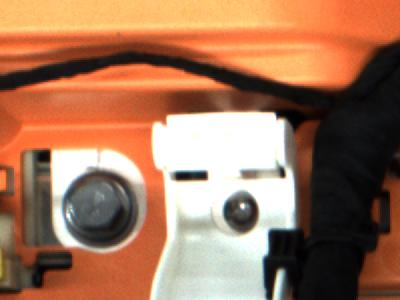nut_b: (61, 163, 138, 252)
